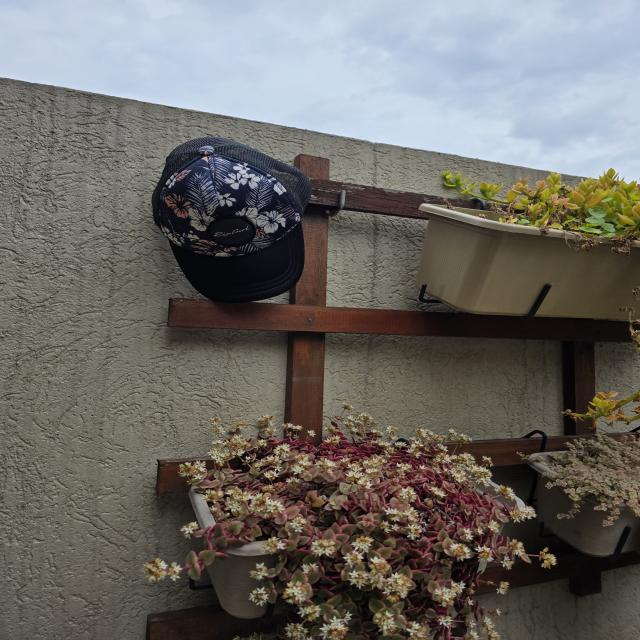Gorra: (150, 136, 315, 308)
